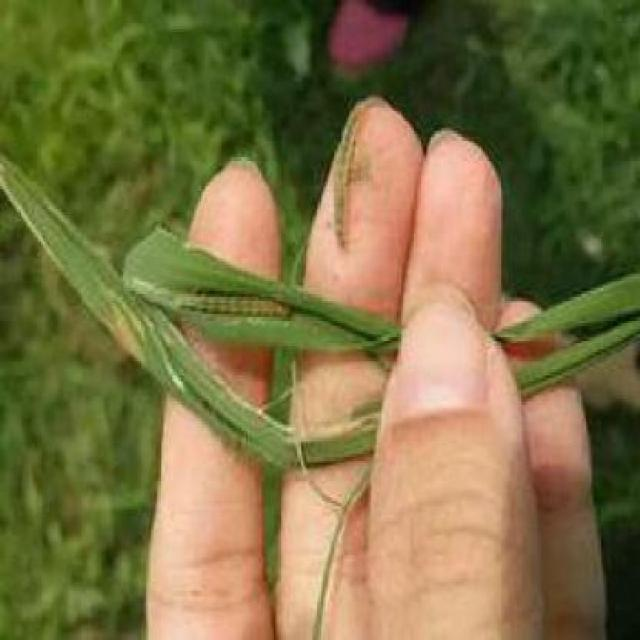leaf-folder: (140, 252, 308, 346), (311, 80, 398, 248)
